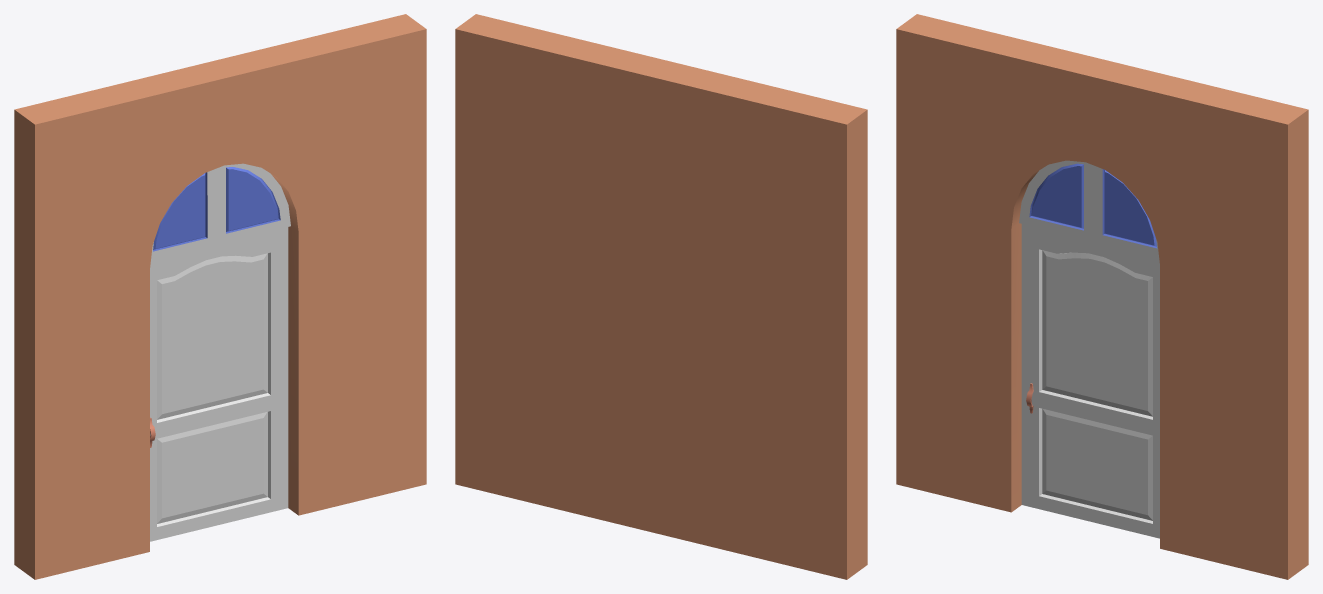
Rendered from SP_House13_Door01.fbx.
The picture shows the model from 3 angles, left to right: view 1: azimuth 30°, elevation 25°; view 2: azimuth 150°, elevation 25°; view 3: azimuth 330°, elevation 25°; orthographic projection.
Parts seen in each view (by area): view 1: SP_House13_Door01; view 2: SP_House13_Door01; view 3: SP_House13_Door01.
Boxes of the visible parts, x1,y1,x2,y2 form: SP_House13_Door01: (14, 14, 426, 579); SP_House13_Door01: (455, 14, 867, 579); SP_House13_Door01: (896, 14, 1308, 579).
Bounding box in the file's own units: 3.16 × 3.51 × 0.2883.
